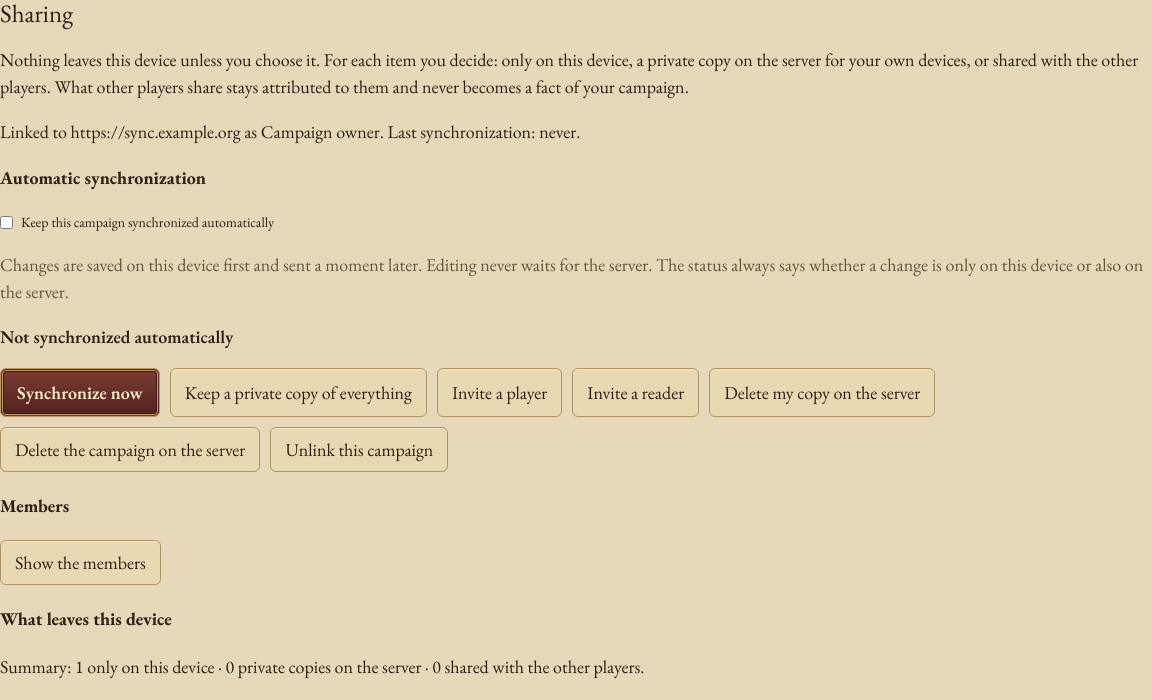
Test case: copying everything privately is confirmed first and explains what is and is not included
Click the button "Keep a private copy of everything" at [298, 393], box [170,368,427,417]
(page scrolled)
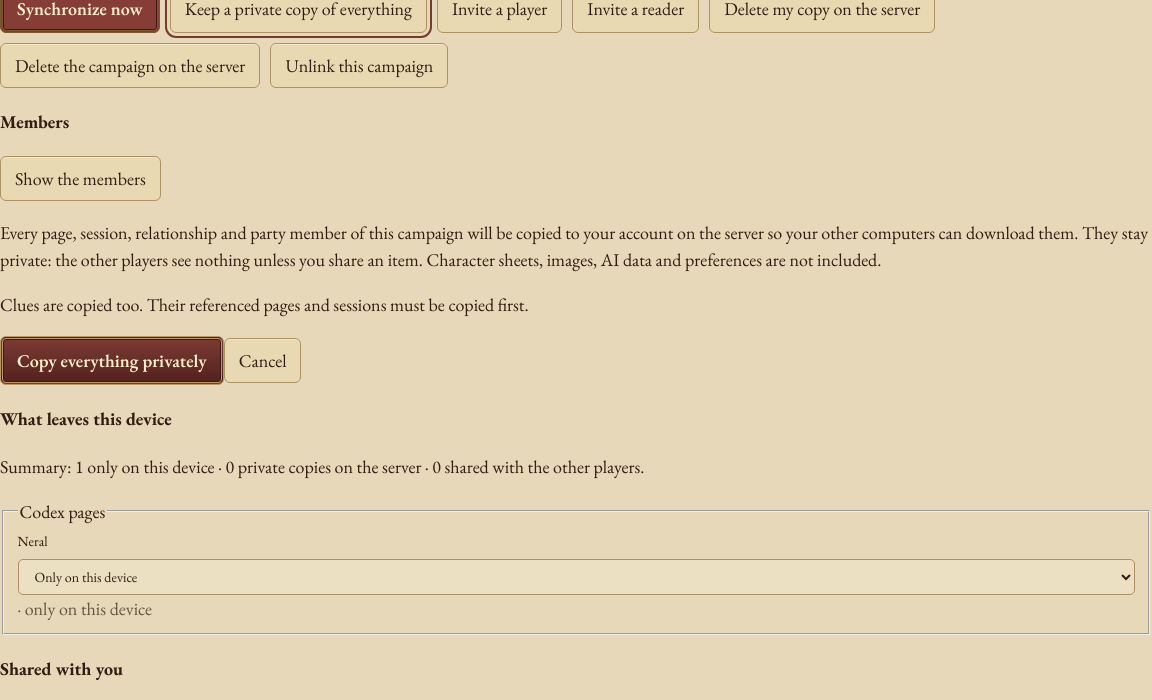
Expected: the text "Character sheets, images" is shown, [0,221,1148,271]
Click the button "Copy everything privately" at [112, 360], box [0,336,224,385]
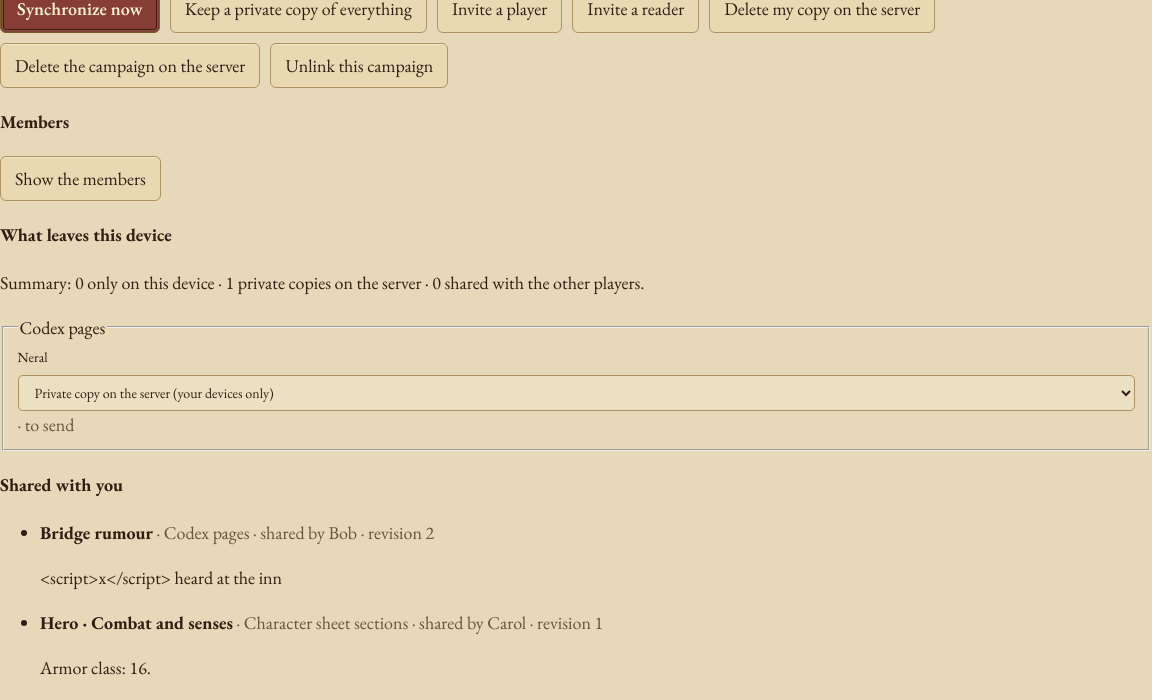
Expected: the dropdown labelled "Neral" shows "Private copy on the server (your devices only)", [18,375,1134,411]
